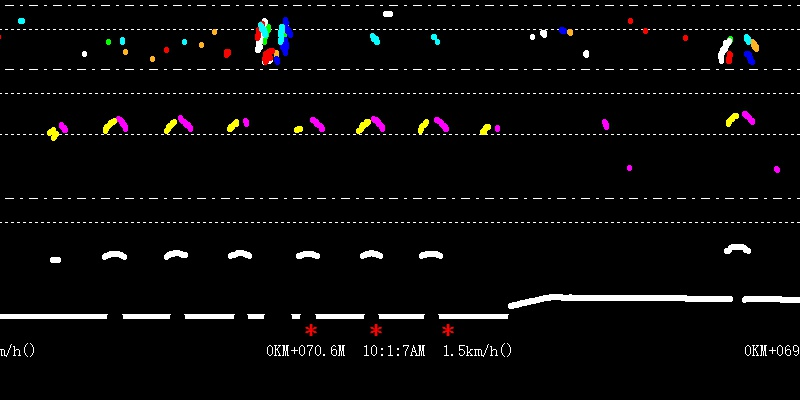J: (251, 2, 293, 65)
face_down: (367, 24, 383, 49)
first: (380, 1, 395, 17)
star: (440, 321, 455, 340), (302, 322, 318, 339), (368, 322, 382, 338)
y_p: (95, 107, 460, 282)
